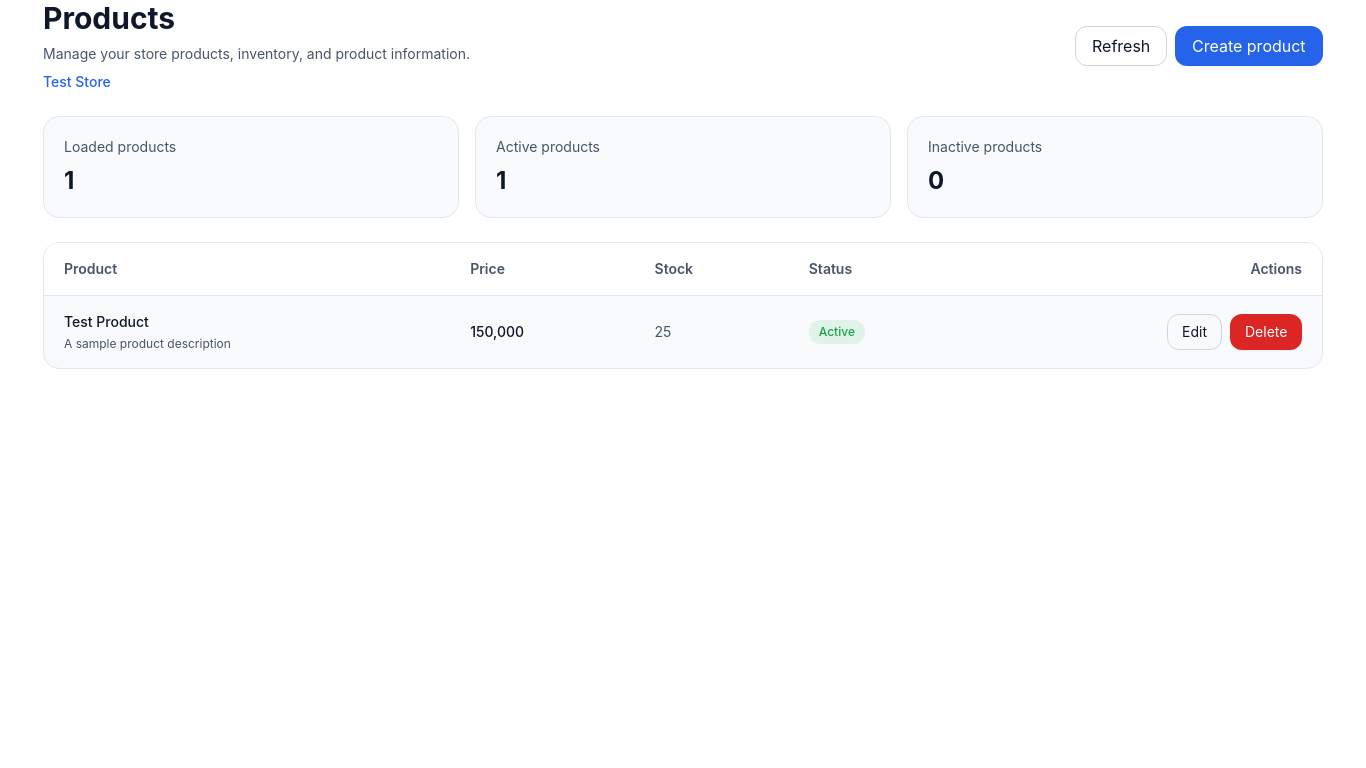
Test case: ProductsPage › should delete a product after confirmation
Click the button "Delete".
click(1266, 332)  # box [1230, 314, 1302, 350]
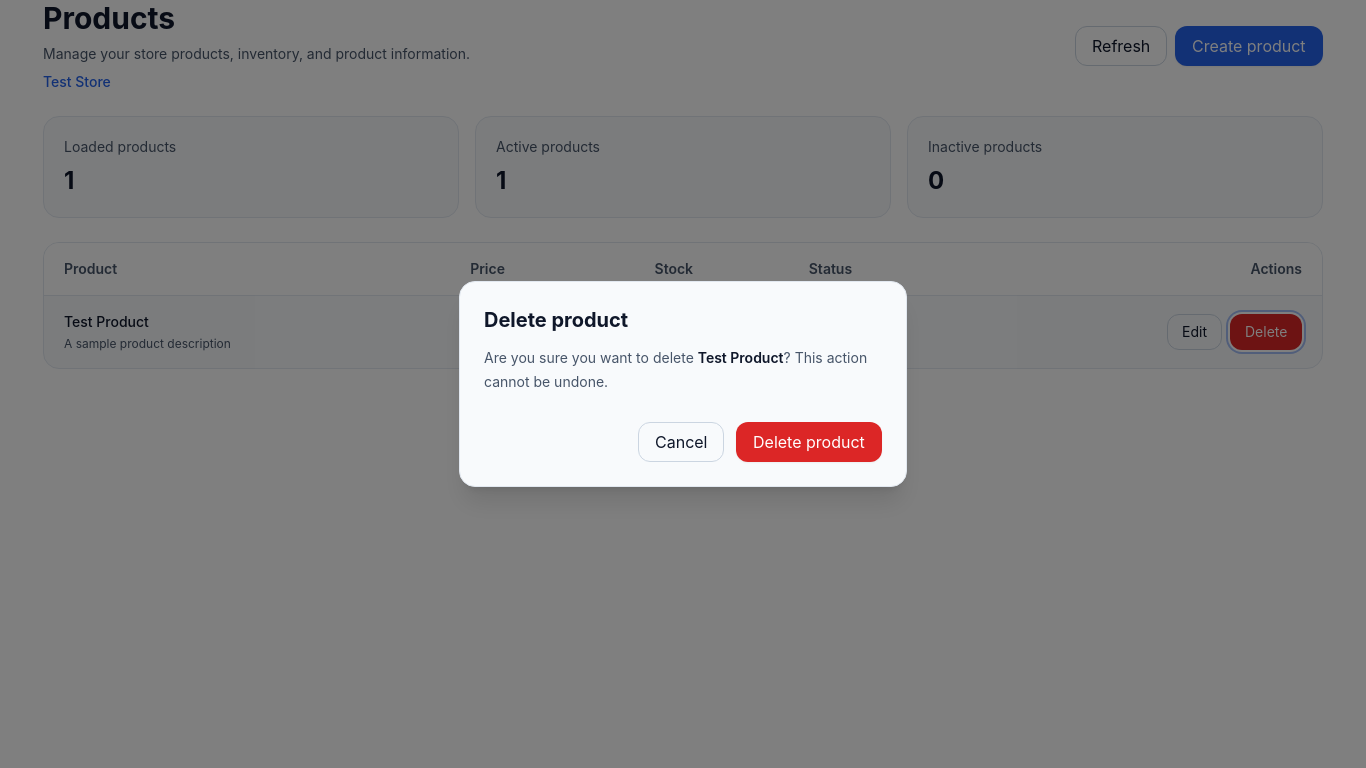
Expected: the dialog "Delete product" is shown, [459, 281, 907, 487]
Expected: the text "Test Product" is shown, [698, 349, 784, 366]
Click the button "Delete product".
click(809, 442)  # box [736, 422, 882, 462]
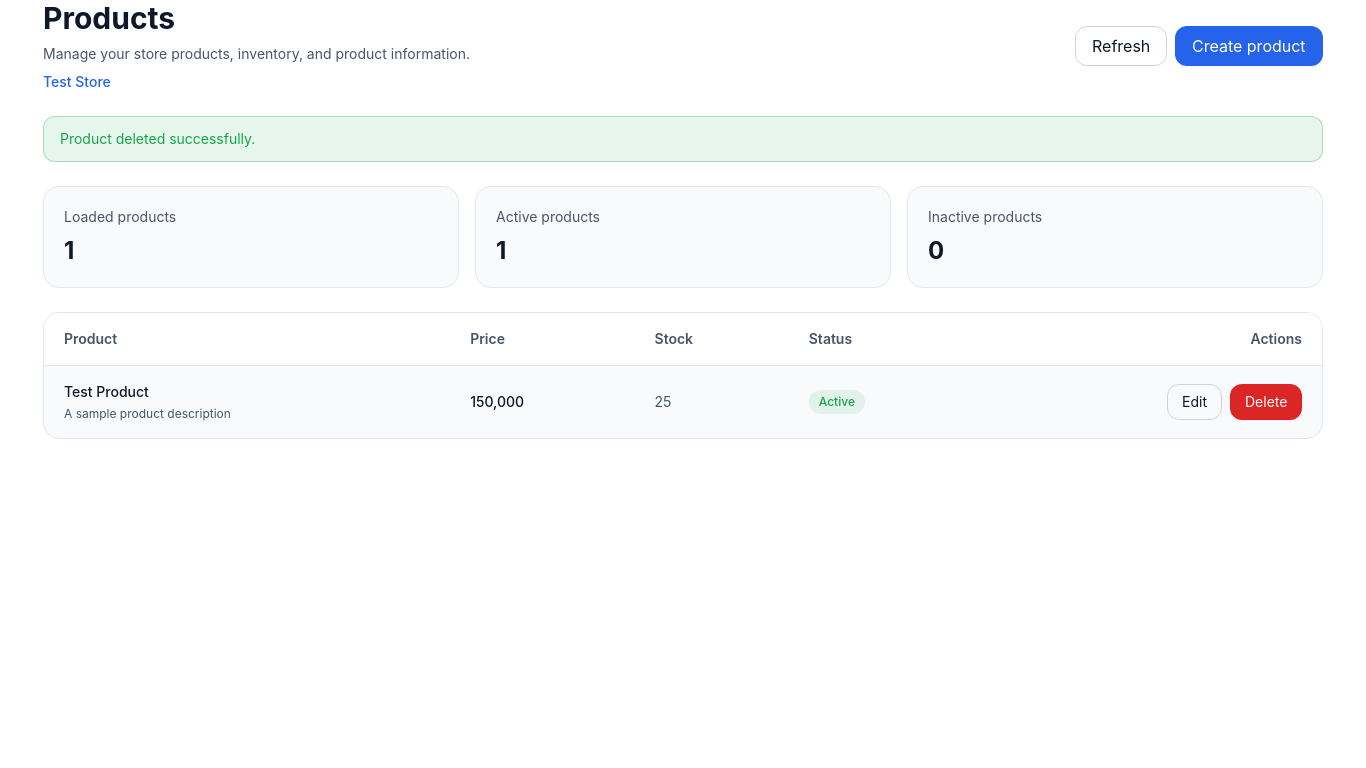
Expected: the text "Product deleted successfully." is shown, [43, 116, 1323, 162]
